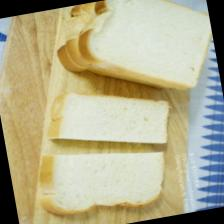bread: (70, 0, 220, 106)
